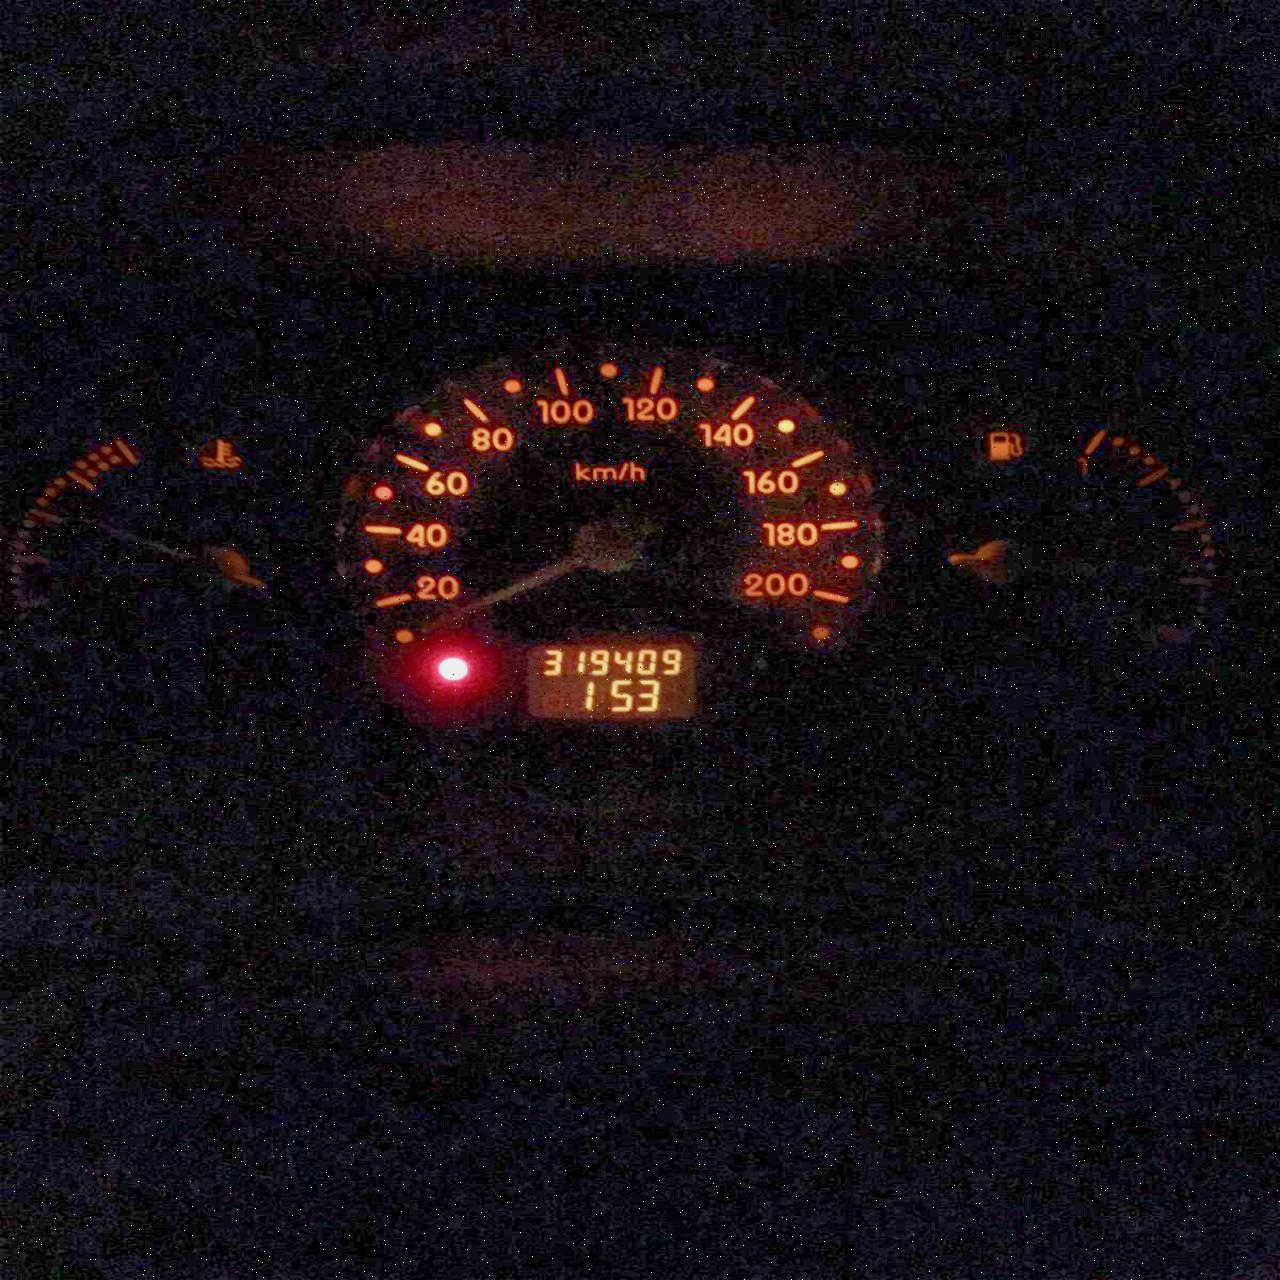0: (635, 648, 656, 674)
1: (584, 681, 594, 710), (577, 649, 586, 674)
3: (635, 679, 659, 712), (542, 648, 563, 675)
4: (612, 651, 633, 674)
5: (610, 679, 633, 712)
9: (660, 648, 681, 674), (588, 648, 608, 675)
odometer: (523, 640, 699, 721)
